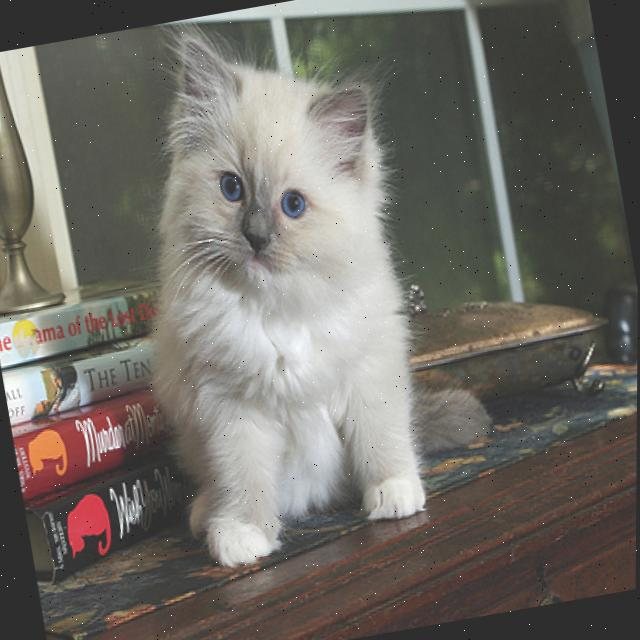Ragdoll: (93, 0, 455, 580)
